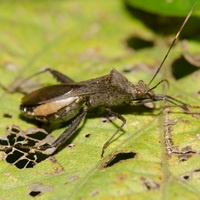insect: (0, 101, 199, 199), (149, 41, 199, 105)
